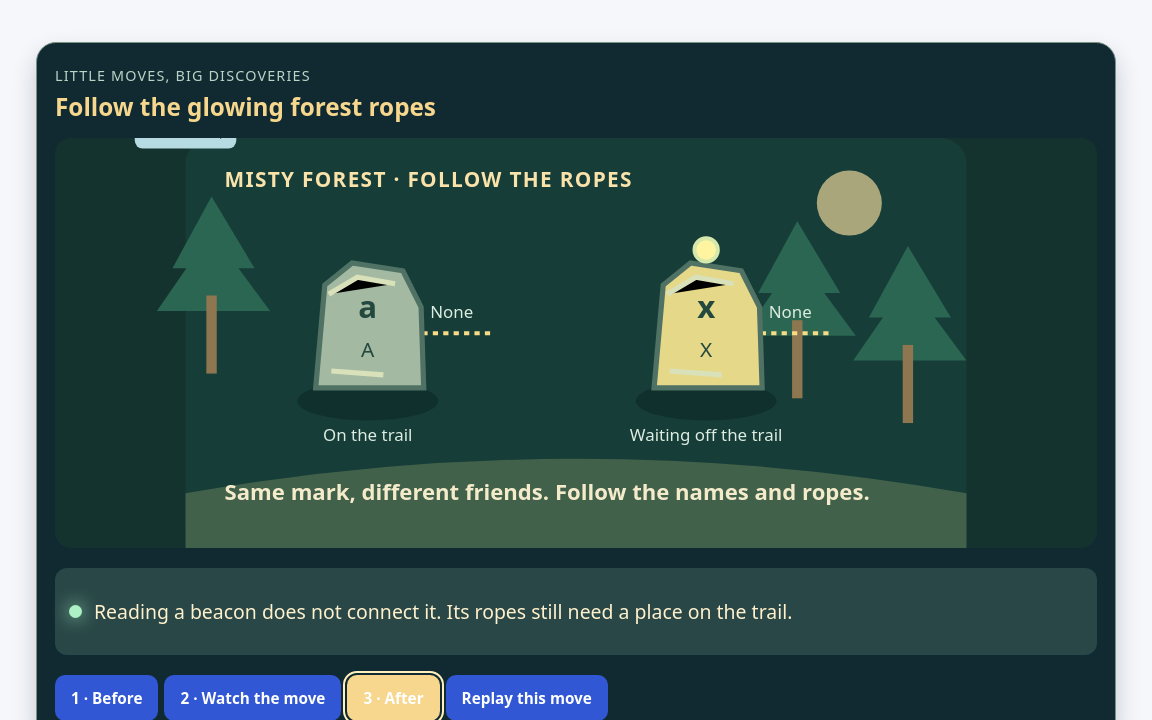
Test: child-friendly structure stories › does not pretend a detached beacon was reached along the HEAD trail
Click the button "2 · Watch the move" at {"x": 253, "y": 698}, box [164, 674, 342, 719]
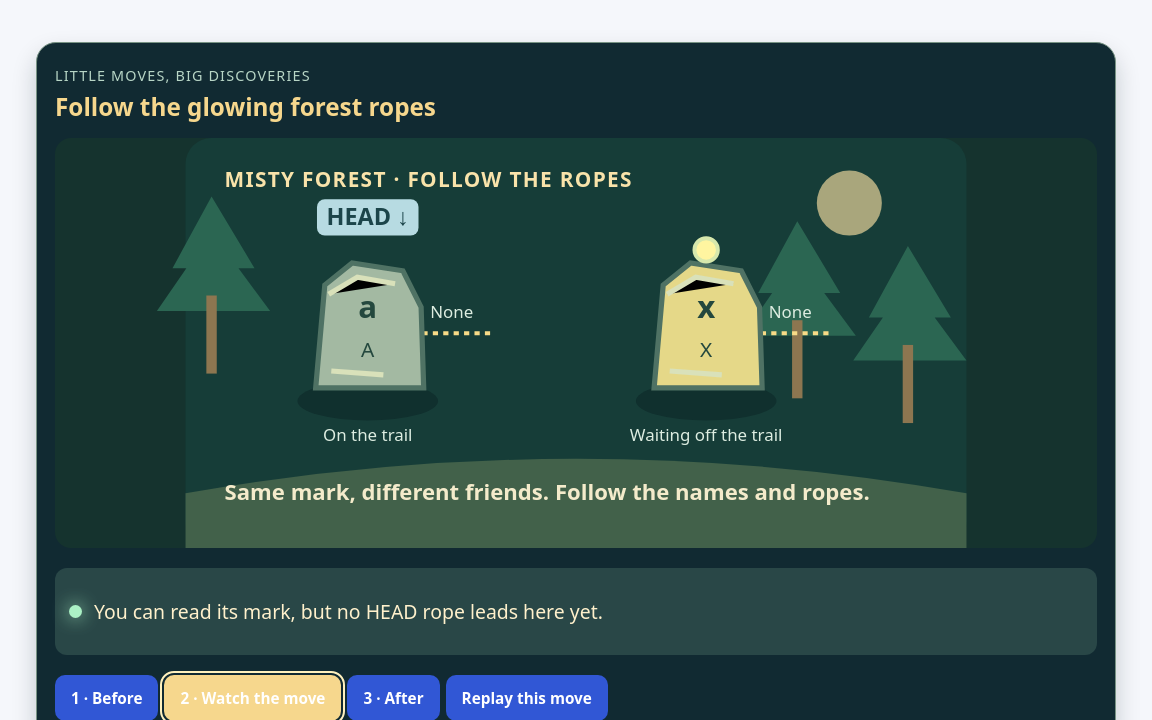
Expected: the text "You can read its mark, but no HEAD rope leads here yet." is shown, [55, 568, 1097, 655]
